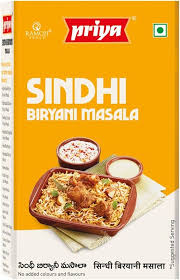Biryani: (1, 1, 180, 279)
